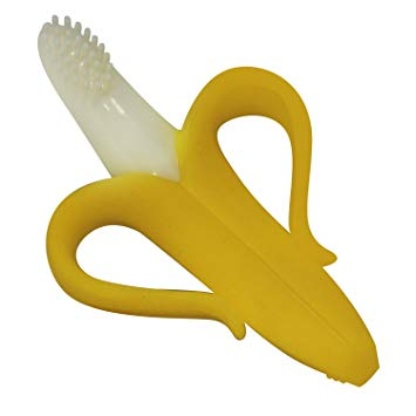chuoi: (26, 4, 407, 401)
